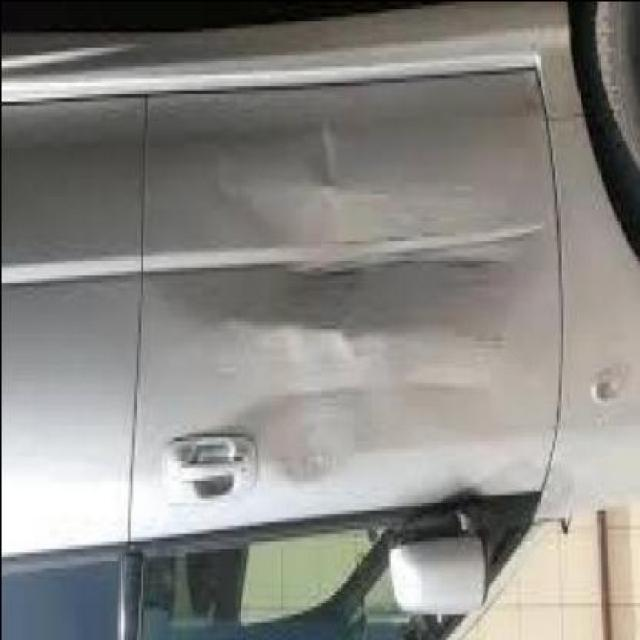damage: (203, 123, 536, 486)
